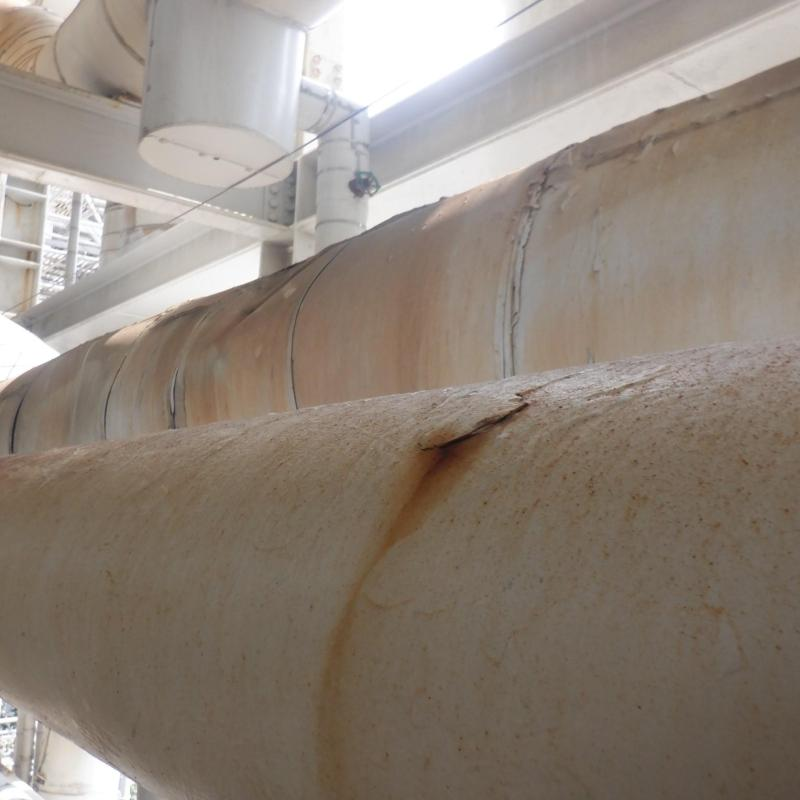Fracture: (418, 388, 548, 461)
